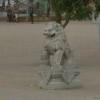Statue: (28, 13, 86, 81)
